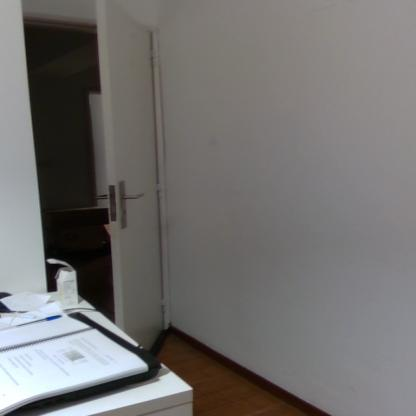semi: (0, 0, 200, 351)
